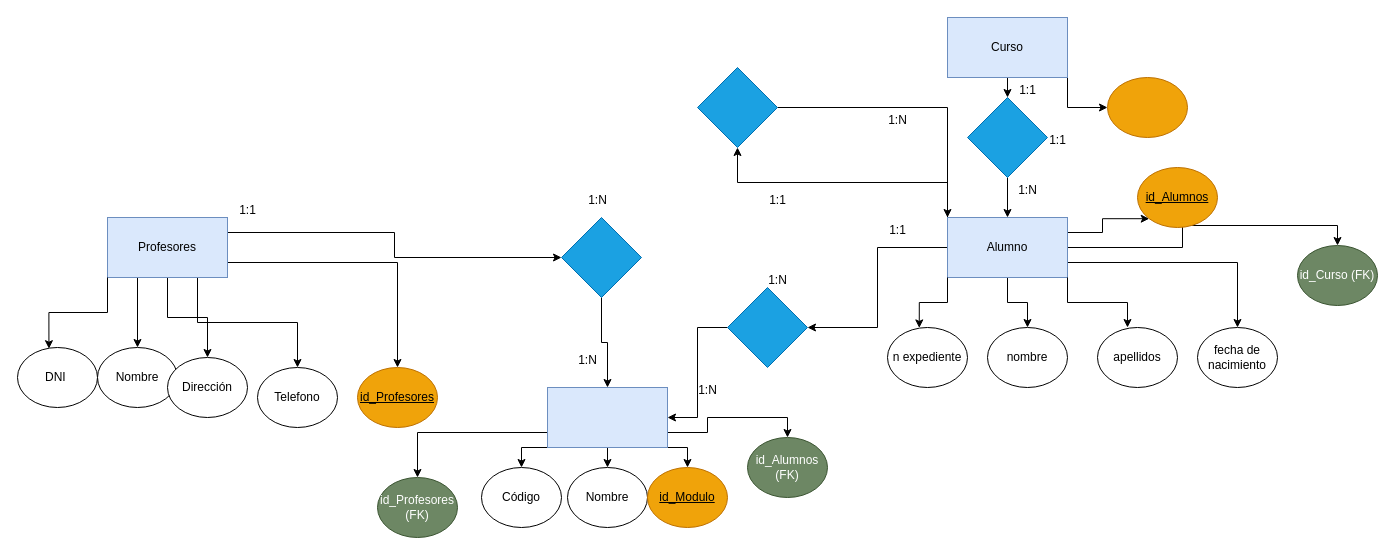
Image size: 1395x555. Some labels were removed from this diagram. The centre of each missing label's shape, as x and y in pixels:
"Delegado" belongs at point 737,107.
"id_Curso" belongs at point 1147,107.
"Imparten" belongs at point 601,257.
"Modulos" belongs at point 607,417.
"se matricula" belongs at point 767,327.
"Tiene" belongs at point 1007,137.
